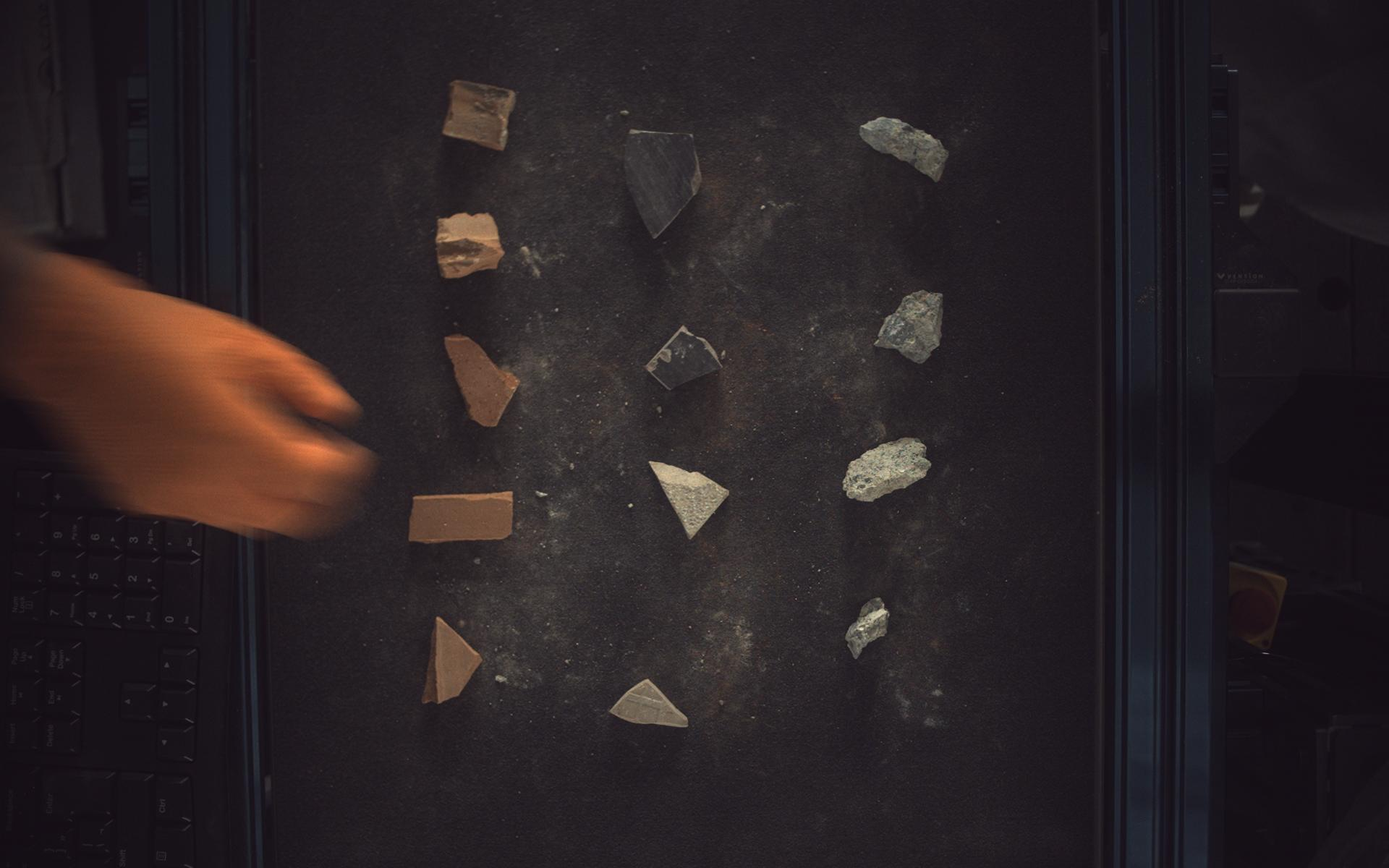brick: (444, 334, 519, 427), (422, 618, 483, 705), (409, 493, 513, 543), (443, 80, 516, 150), (436, 212, 504, 278)
concrete: (862, 116, 951, 181), (844, 438, 933, 502), (876, 290, 945, 364), (848, 598, 891, 660)
tile: (626, 129, 702, 237), (651, 462, 730, 540), (646, 326, 723, 390), (611, 680, 688, 728)
